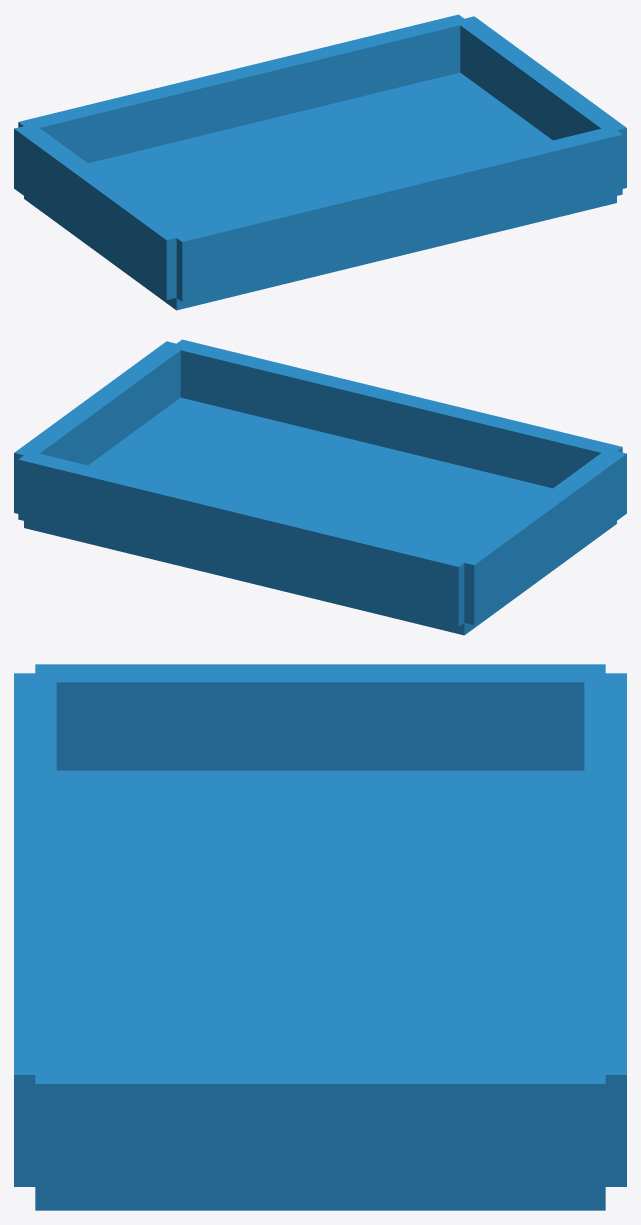
The model's file is TR_Tray_Plastic.glb.
3 views of the same model, one above another, from view 1: azimuth 30°, elevation 25°; view 2: azimuth 150°, elevation 25°; view 3: azimuth 270°, elevation 25° (orthographic). The views are drawn at different scales.
Visible parts, largest first — view 1: TR_Tray_Plastic; view 2: TR_Tray_Plastic; view 3: TR_Tray_Plastic.
Part boxes in pixels (bbox=[...]): TR_Tray_Plastic: bbox=[14, 14, 626, 310]; TR_Tray_Plastic: bbox=[14, 339, 626, 635]; TR_Tray_Plastic: bbox=[14, 664, 626, 1210].
Bounding box in the file's own units: 1.04 × 0.1575 × 0.645.
